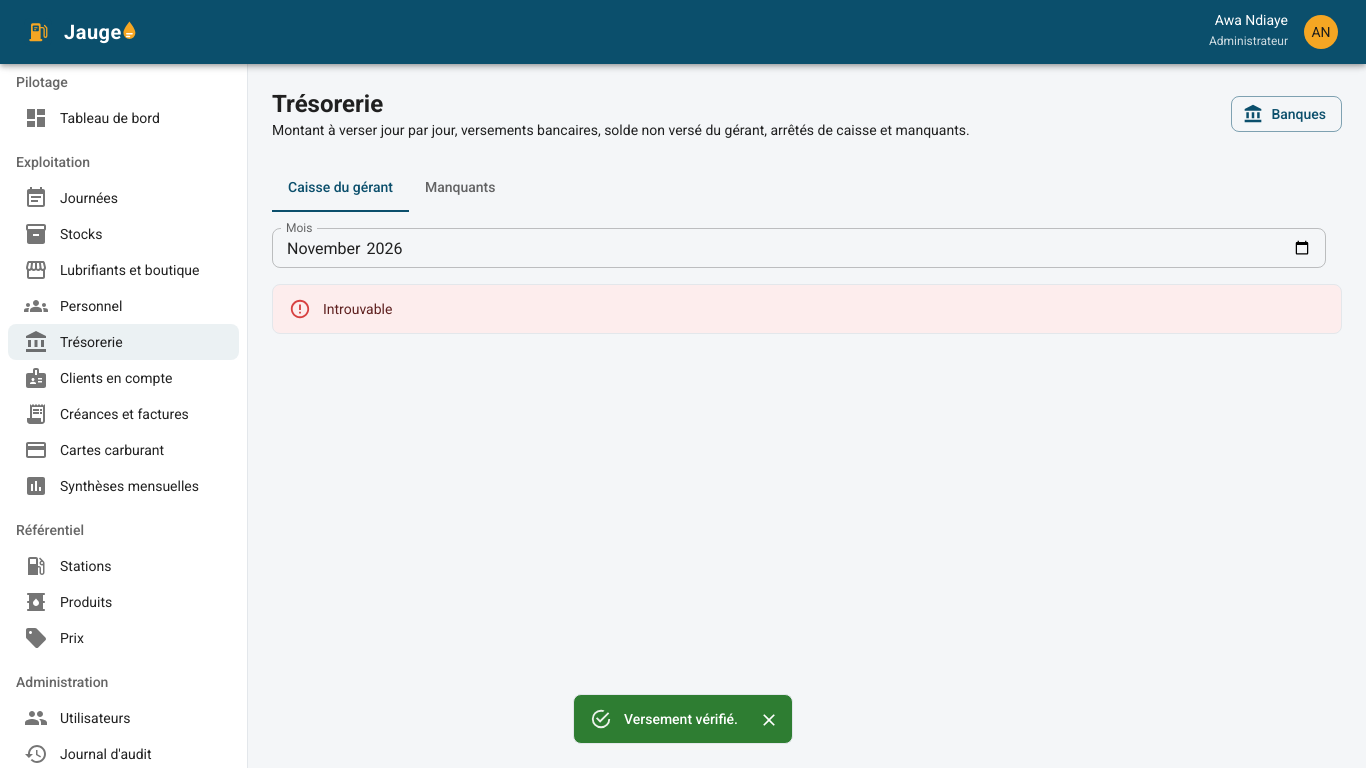
trésorerie › l’administrateur choisit les banques de la compagnie et en ajoute une
Click the button "Banques" at [1287, 114], box [1231,96,1342,132]
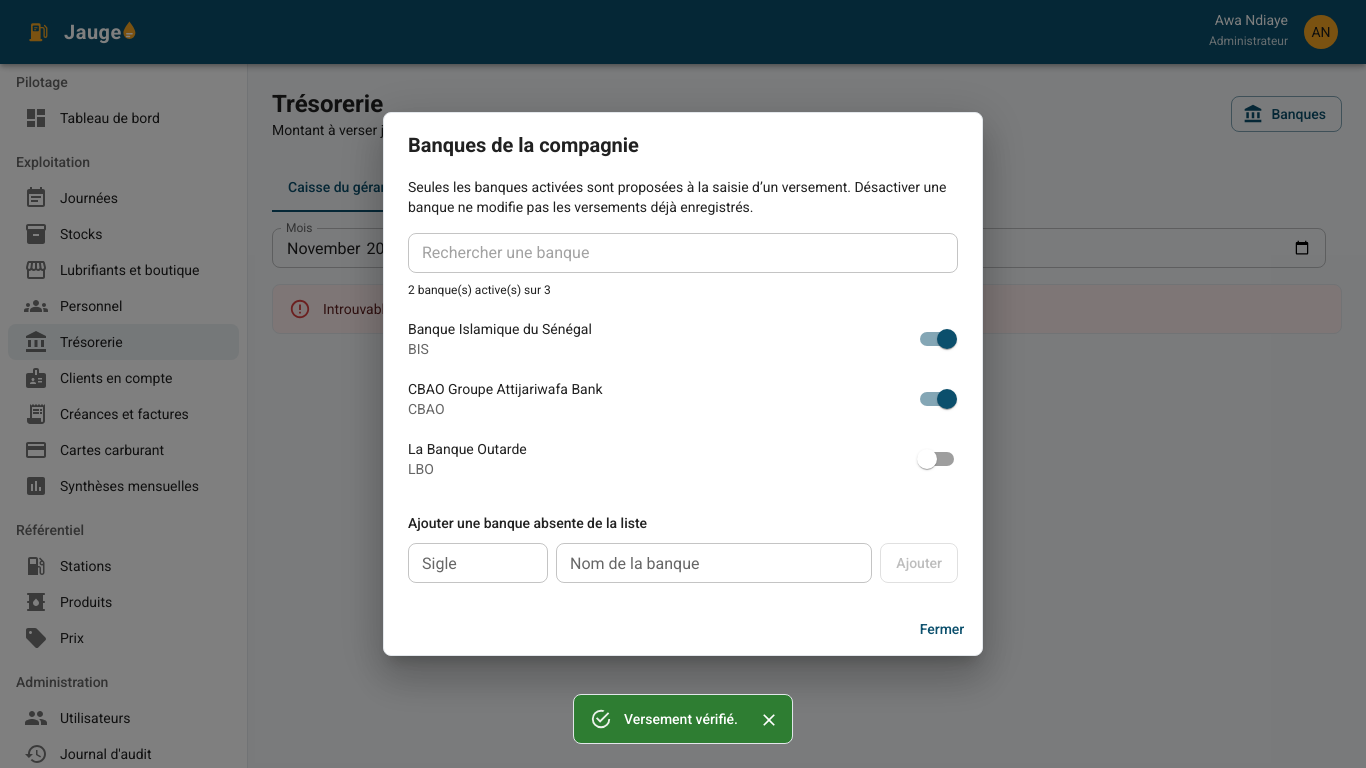
Expected: the text with test id "banques-actives" reads "2 banque(s) active(s) sur 3", [408,283,551,297]
Click the switch named "La Banque Outarde : banque active" at [927, 459], box [917,449,937,469]
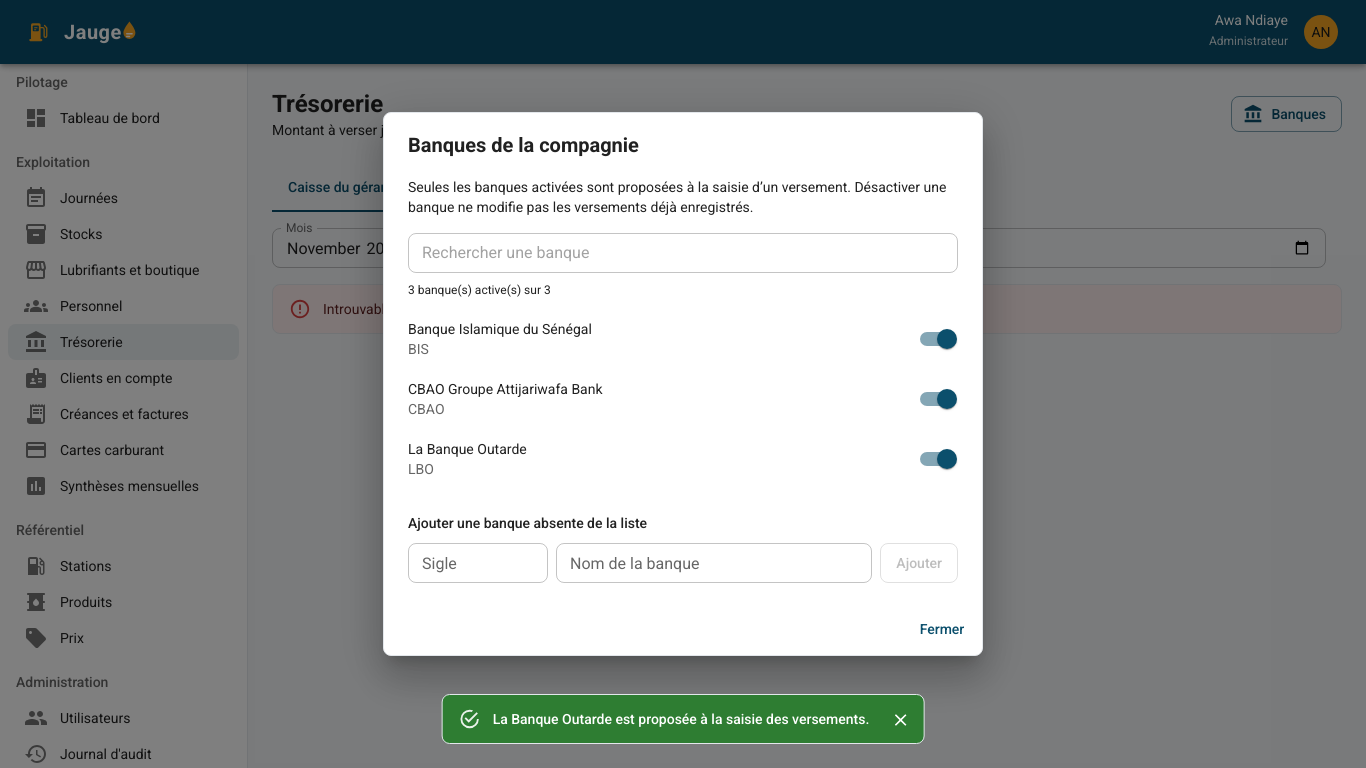
Expected: the text with test id "banques-actives" reads "3 banque(s) active(s) sur 3", [408,283,551,297]
Type "bqx" into the field labelled "Sigle" at [478, 563], box [408,543,548,583]
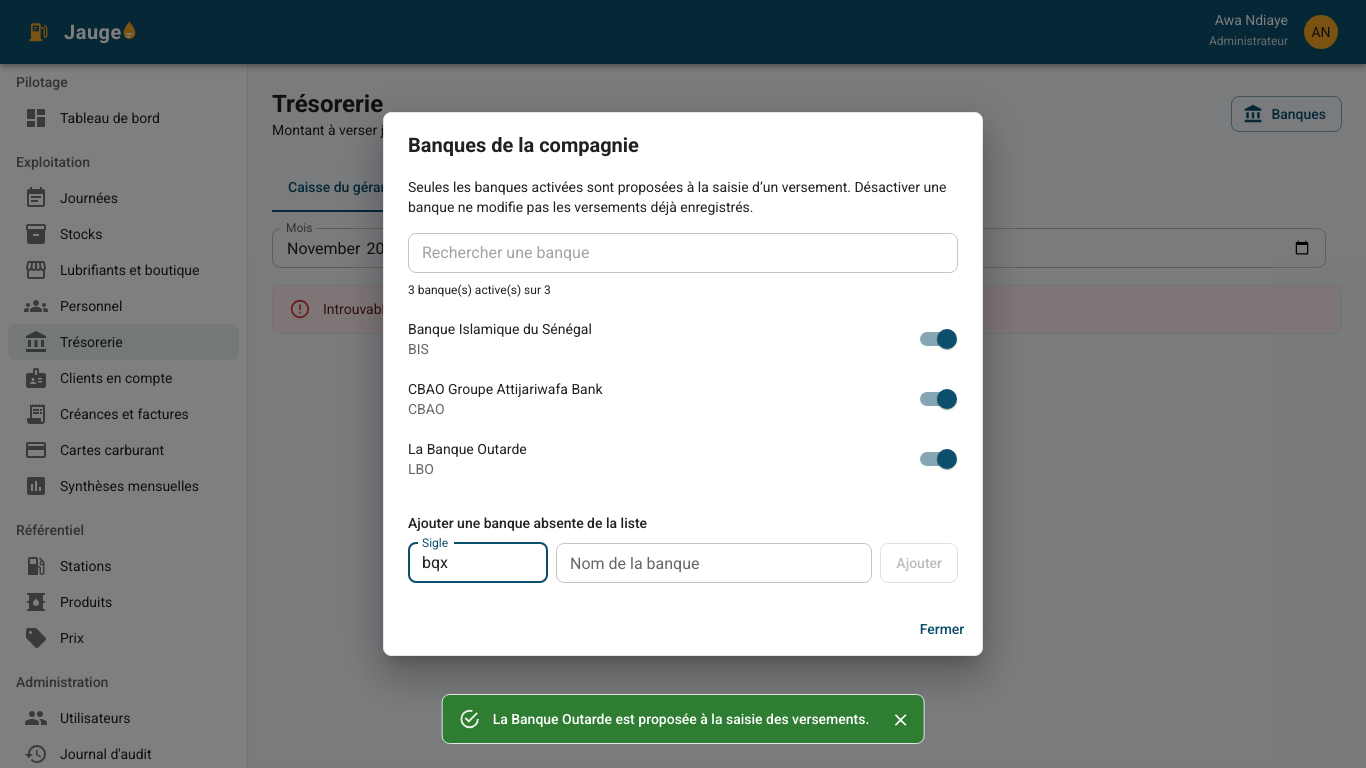
Type "Banque X" into the field labelled "Nom de la banque" at [714, 563], box [556,543,872,583]
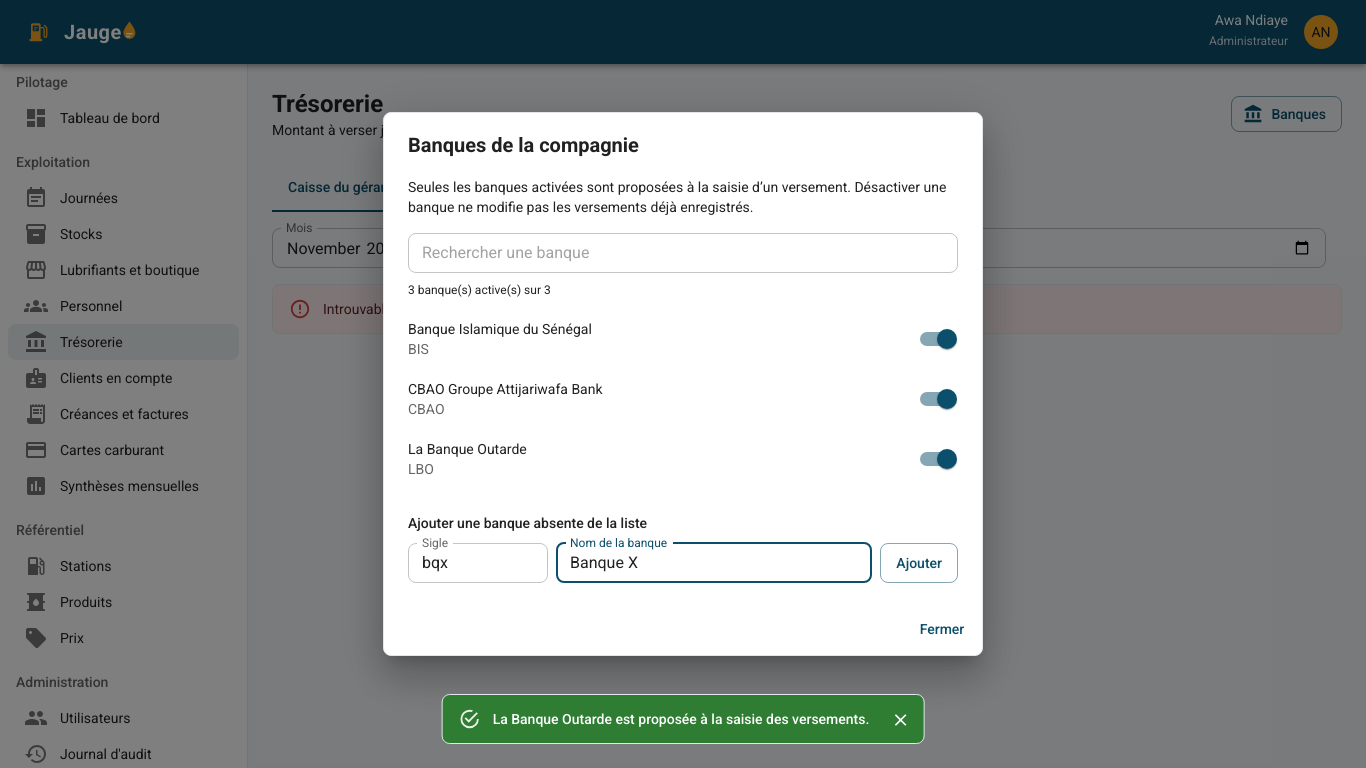
Click the button "Ajouter" at [919, 563], box [880,543,958,583]
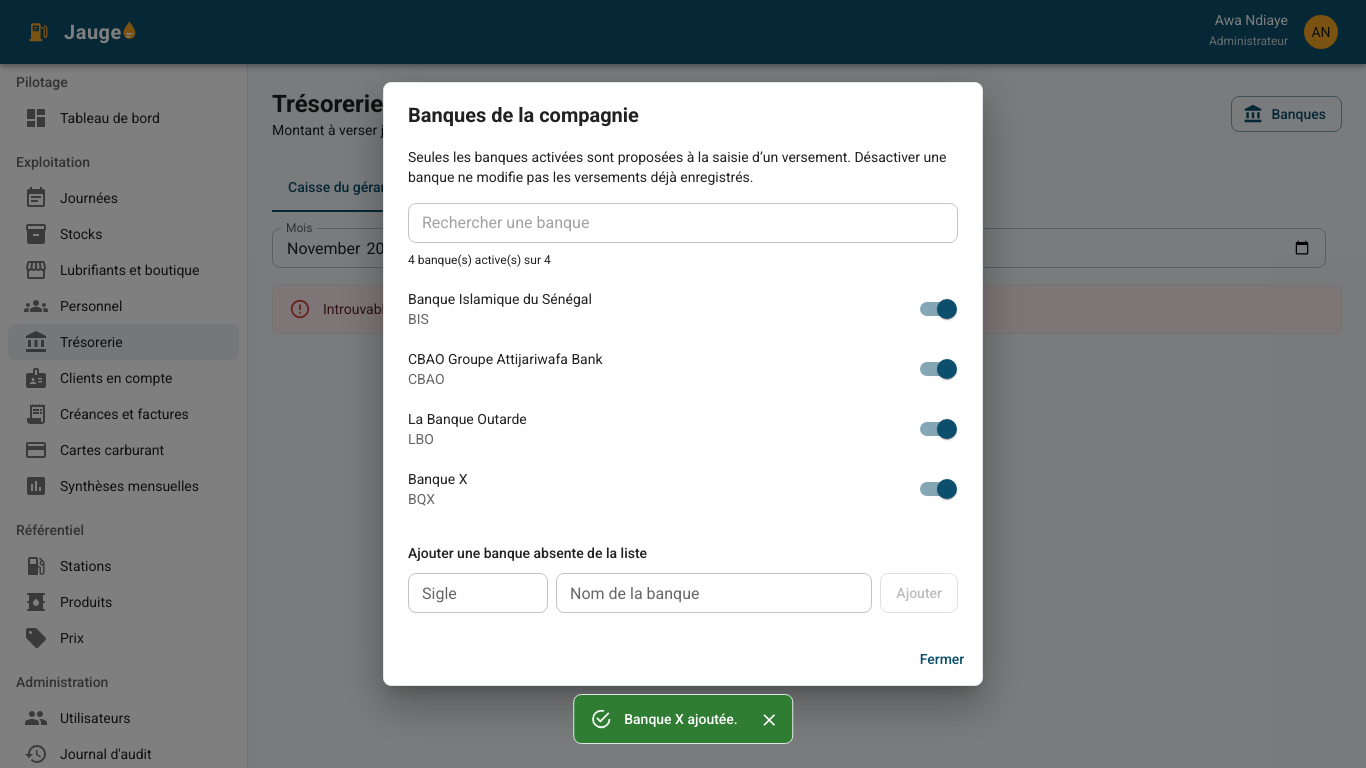
Expected: the list item with test id "banque-BQX" is shown, [408,459,958,519]
